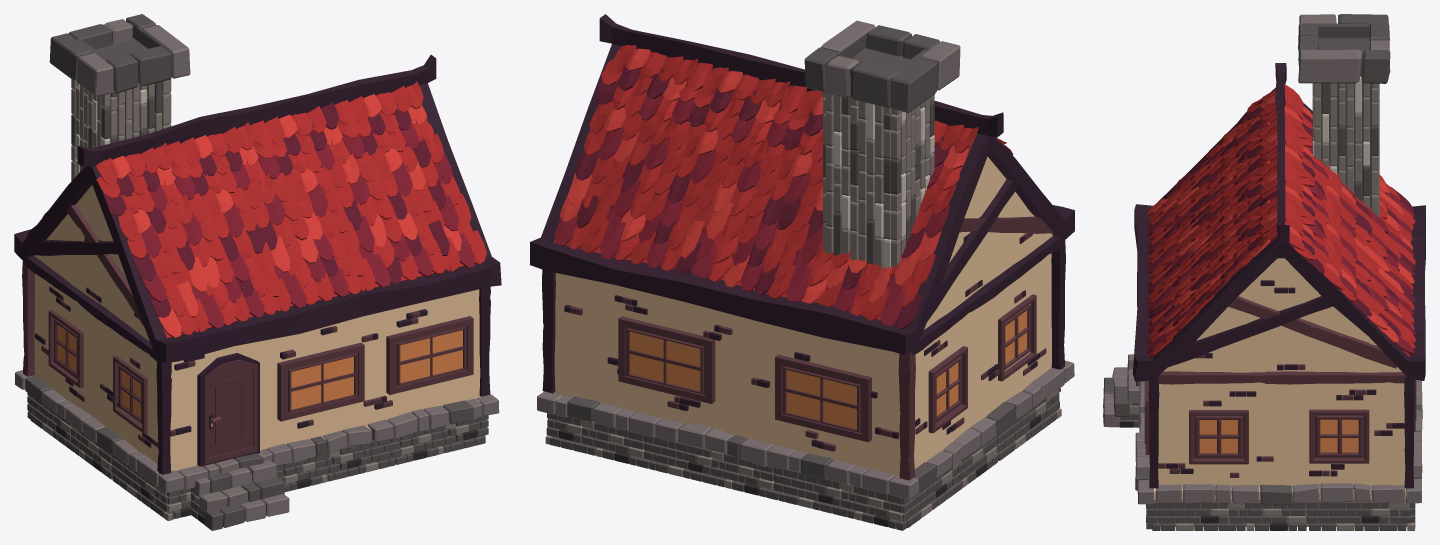
The model's file is casa-pedra6.fbx.
3 renders of one model, left to right at view 1: azimuth 30°, elevation 25°; view 2: azimuth 150°, elevation 25°; view 3: azimuth 270°, elevation 25°, orthographic. The views are drawn at different scales.
Visible parts, largest first — view 1: Plane.056, Plane.002; view 2: Plane.056; view 3: Plane.056.
Boxes of the visible parts, bbox=[...] form: Plane.056: bbox=[14, 14, 501, 530]; Plane.002: bbox=[204, 359, 257, 464]; Plane.056: bbox=[530, 14, 1074, 530]; Plane.056: bbox=[1103, 14, 1425, 530].
Bounding box in the file's own units: 521 × 547 × 430.
